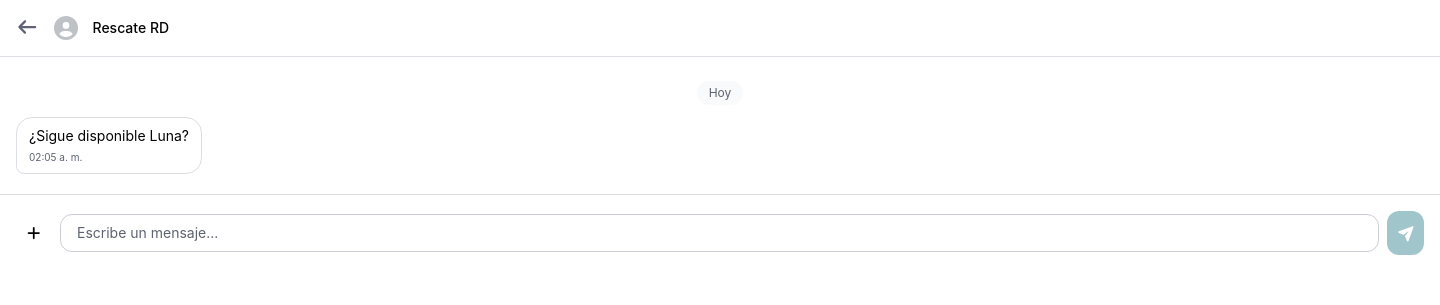
Scenario: ChatMessageThread › before the socket has opened for the first time › keeps the draft and explains itself when a send is blocked
The width and height of the screenshot is (1440, 305).
Expected: the text "¿Sigue disponible Luna?" is shown, [29,126,189,146]
In the field labelled "mensaje": {"x": 719, "y": 233} [60,214,1378,252], type "¿Puedo visitarla el sábado?"
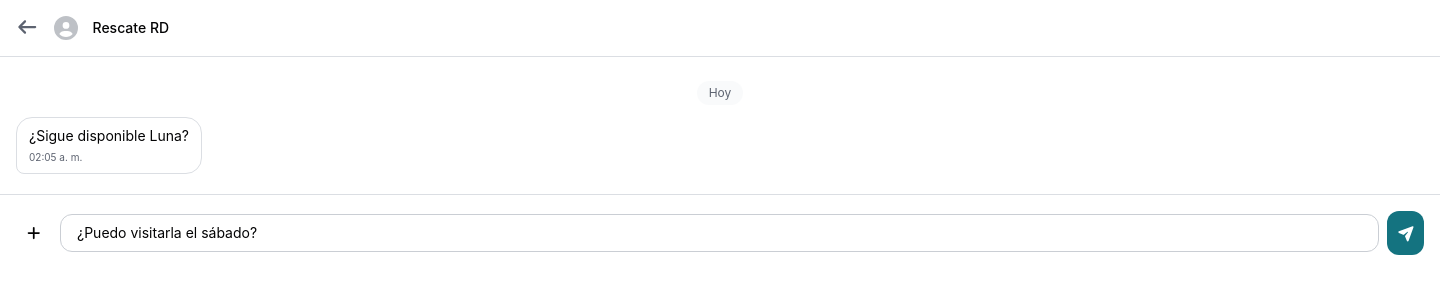
Press Enter in the field named "mensaje", box [60,214,1378,252]
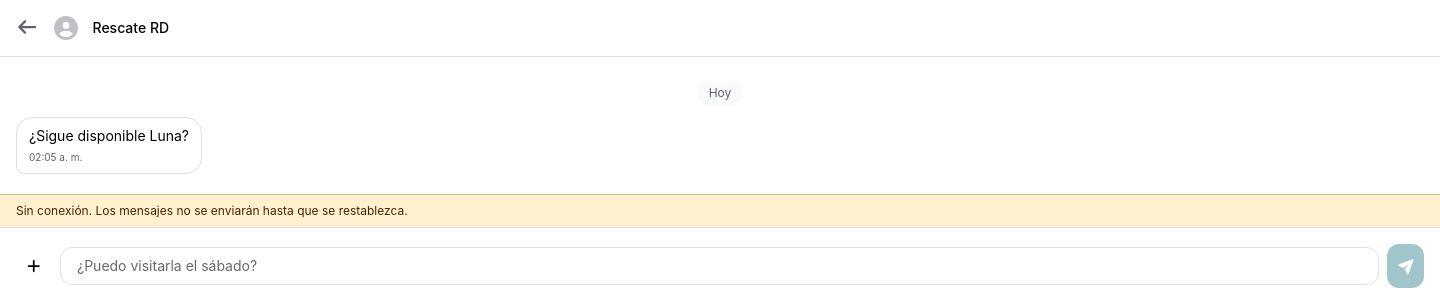
Now the text "Sin conexión. Los mensajes no se enviarán hasta que se restablezca." is shown, box [0,194,1439,227]
